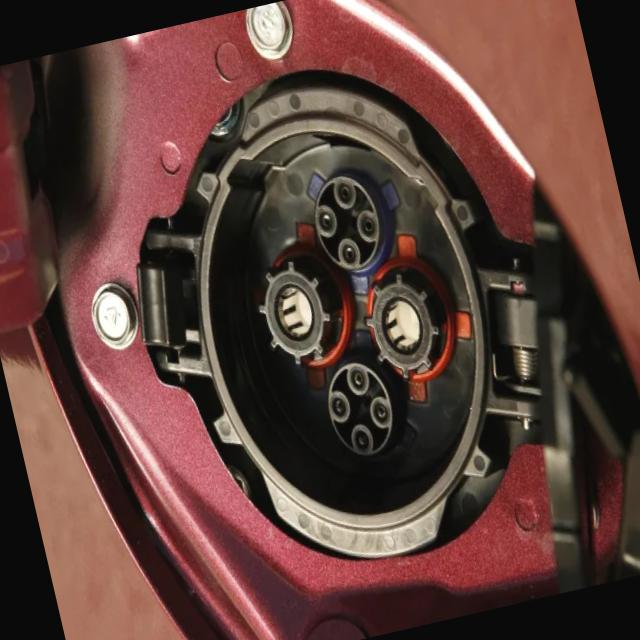CHAdeMO: (195, 115, 540, 518)
